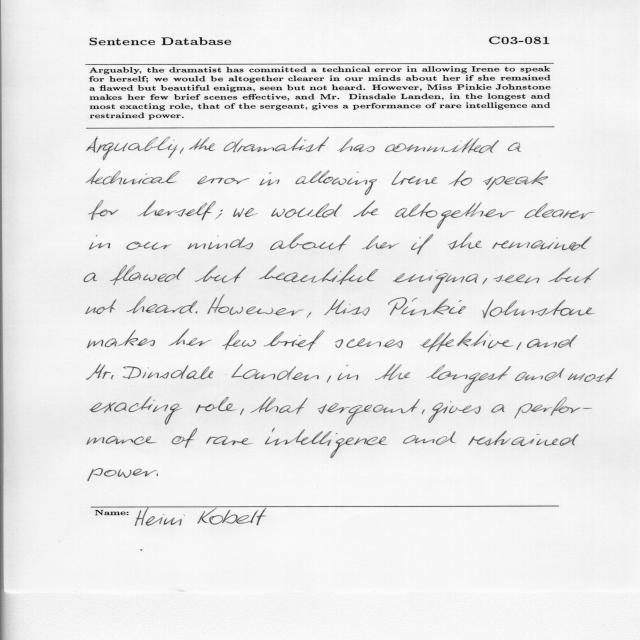word: (265, 428, 387, 458), (395, 202, 516, 229), (90, 397, 182, 425), (259, 265, 378, 285), (426, 365, 511, 393), (87, 137, 178, 160), (296, 171, 378, 196), (421, 331, 514, 353), (207, 295, 304, 316), (482, 300, 595, 318), (393, 270, 478, 293), (346, 399, 420, 425), (385, 138, 499, 153), (468, 431, 579, 446), (515, 397, 593, 418), (223, 137, 329, 152), (137, 200, 216, 220), (110, 265, 185, 286), (86, 169, 180, 185), (492, 236, 592, 251), (231, 364, 319, 381), (388, 297, 466, 316), (270, 233, 351, 251), (483, 170, 548, 190), (264, 330, 325, 351), (123, 365, 214, 379), (127, 296, 197, 314), (87, 330, 155, 348), (428, 401, 481, 423), (524, 203, 595, 219), (271, 203, 342, 218), (250, 397, 308, 414), (195, 265, 246, 283), (88, 468, 157, 481), (188, 236, 253, 249), (324, 299, 370, 316), (548, 268, 599, 283), (403, 431, 456, 445), (169, 329, 212, 346), (391, 170, 438, 185), (568, 368, 618, 382), (222, 330, 256, 350), (335, 338, 403, 348), (527, 335, 578, 348), (196, 397, 237, 413), (515, 368, 565, 381), (87, 436, 156, 445), (89, 200, 119, 220), (448, 233, 483, 250), (337, 138, 375, 153), (375, 364, 410, 380), (362, 236, 399, 250), (172, 428, 197, 448), (86, 299, 116, 314), (86, 364, 114, 380), (411, 234, 433, 254), (353, 200, 378, 217), (197, 176, 250, 184), (493, 275, 540, 284), (206, 436, 253, 445), (126, 241, 172, 250), (449, 171, 472, 187), (189, 137, 215, 151), (338, 365, 359, 380), (90, 235, 110, 250), (260, 172, 280, 186), (327, 403, 351, 413), (233, 208, 258, 217), (508, 142, 521, 152), (84, 273, 97, 283), (491, 404, 504, 413), (318, 404, 327, 414), (215, 210, 223, 220), (517, 342, 522, 350), (483, 278, 488, 284), (307, 312, 312, 318), (180, 148, 184, 155), (327, 376, 331, 383), (240, 409, 244, 416), (422, 409, 425, 415), (195, 311, 198, 314), (156, 474, 158, 477)
